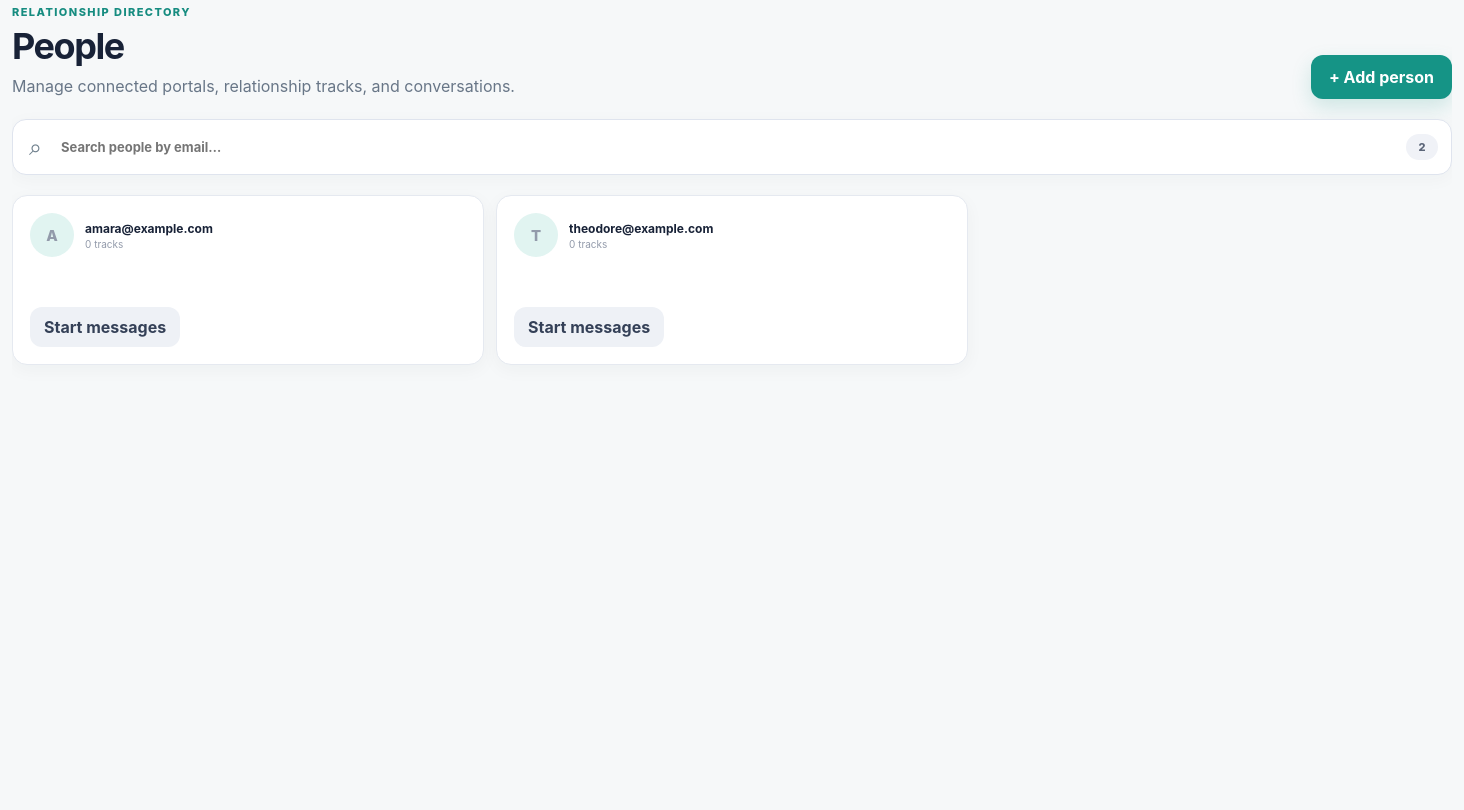
Test: PeopleWorkspace › opens the create portal form on demand
The image size is (1464, 810).
Expected: the heading "Create a connected portal" is not shown
Click the button "+ Add person" at (1381, 77), box [1311, 55, 1452, 99]
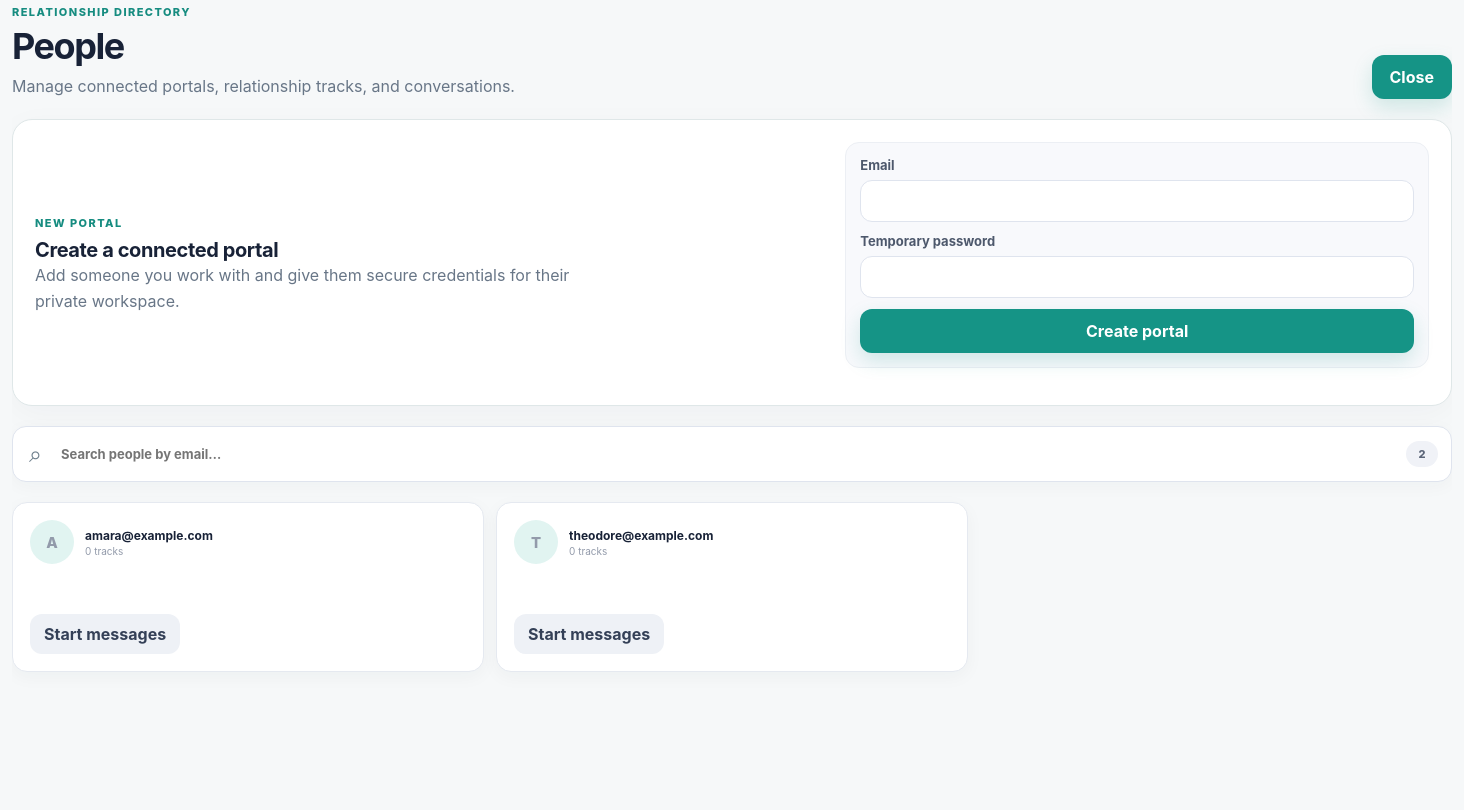
Expected: the heading "Create a connected portal" is shown, [35, 238, 278, 262]
